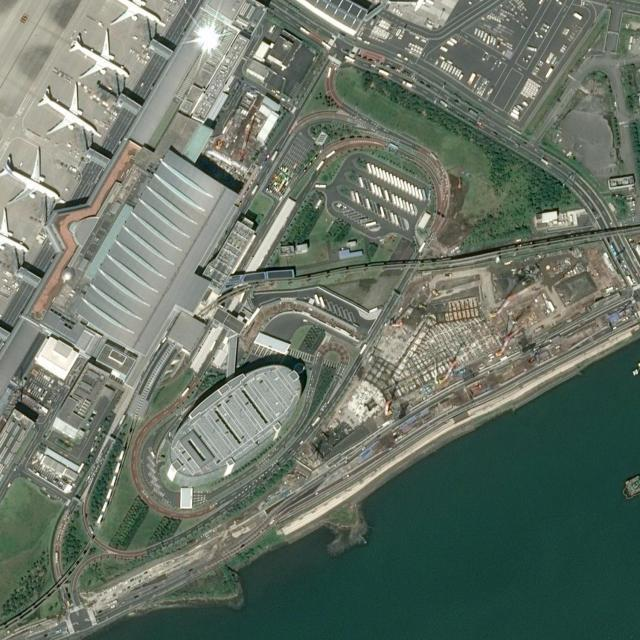Aircraft: (0, 146, 69, 203), (40, 88, 106, 136), (71, 29, 134, 79), (0, 204, 34, 258), (98, 0, 167, 23)
